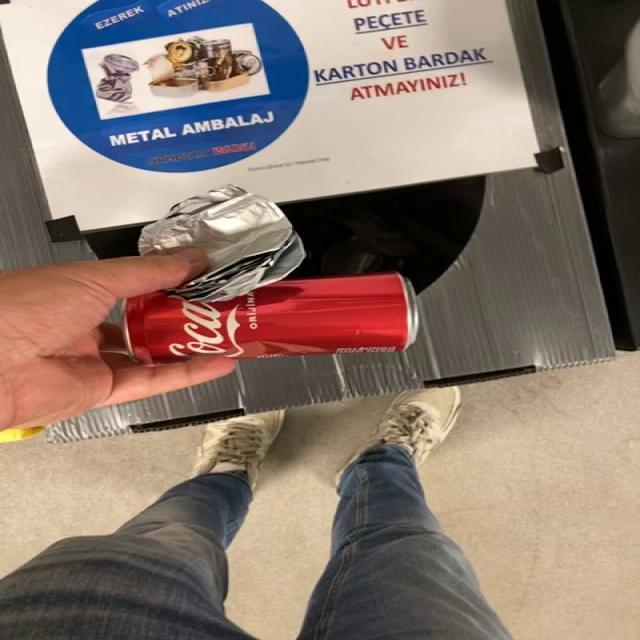Metal: (125, 273, 419, 364)
